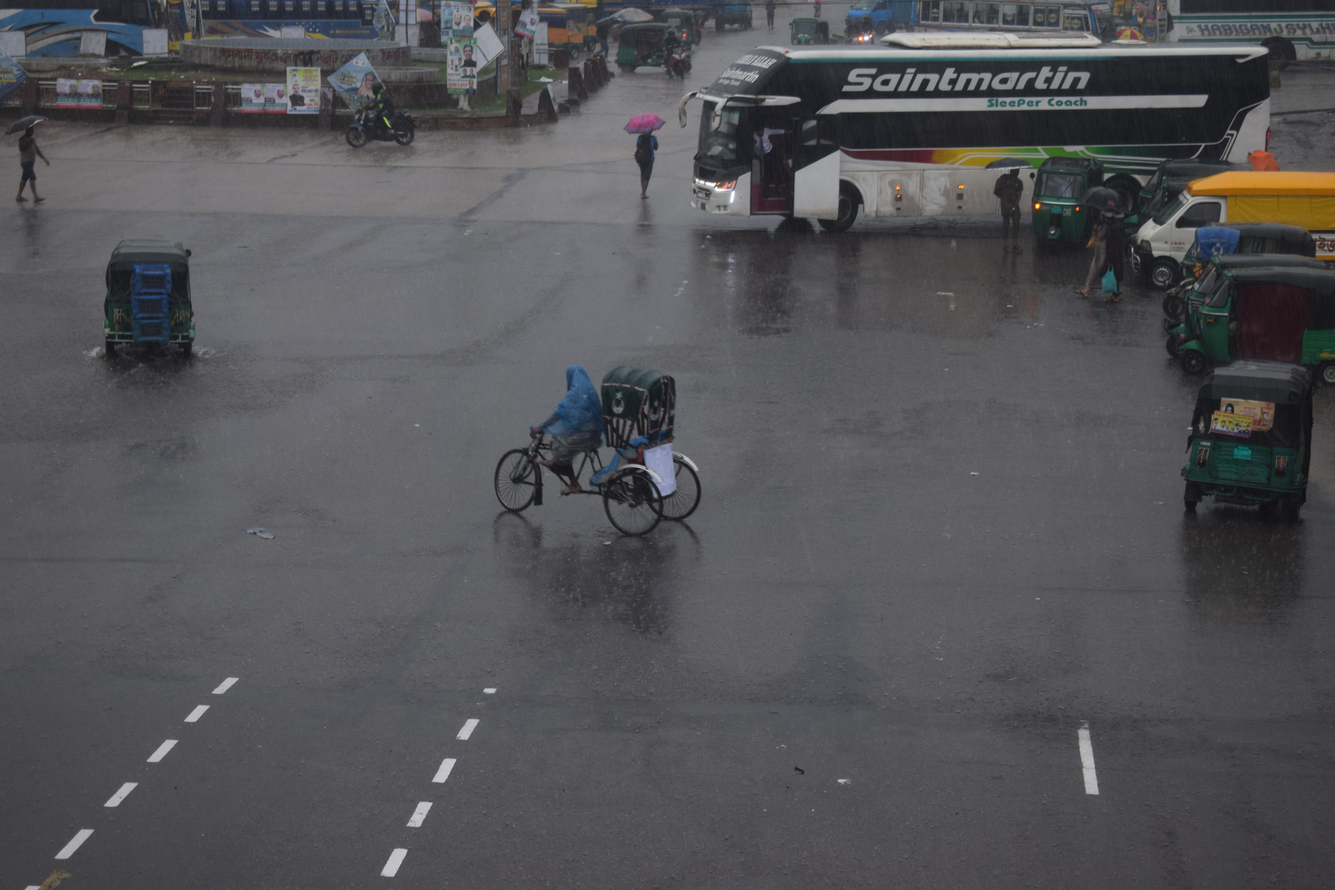Bike: (320, 64, 424, 167), (652, 22, 705, 97)
Bus: (656, 21, 1293, 264), (171, 0, 415, 77)
Car: (394, 327, 752, 578), (1092, 138, 1335, 268)
